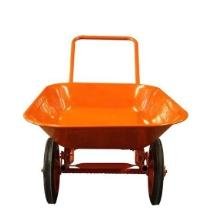BROUETTE: (21, 26, 193, 216)
